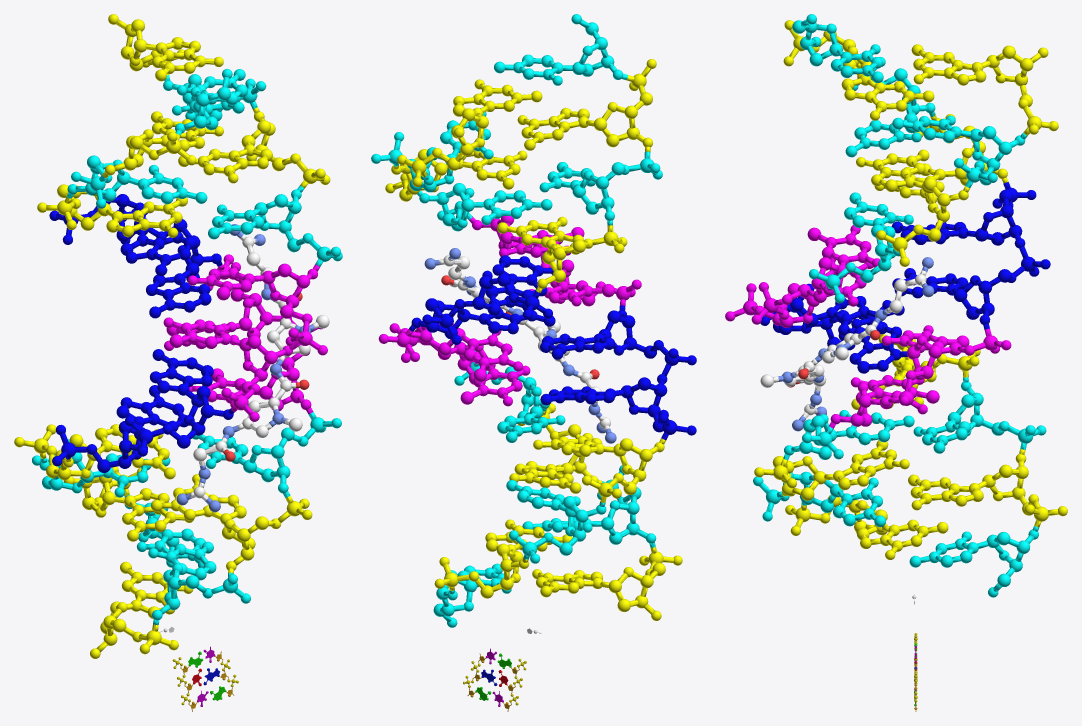
Rendered from DNA.fbx.
The picture shows the model from 3 angles, left to right: view 1: azimuth 30°, elevation 25°; view 2: azimuth 150°, elevation 25°; view 3: azimuth 270°, elevation 25°; orthographic projection. The views are drawn at different scales.
Visible parts, largest first — view 1: subnode_131; view 2: subnode_131; view 3: subnode_131.
Boxes of the visible parts, box(x1,y1,x2,y2) form: subnode_131: box(14, 14, 342, 658); subnode_131: box(371, 14, 696, 627); subnode_131: box(725, 14, 1067, 597).
Bounding box in the file's own units: 2322 × 5099 × 2347.
